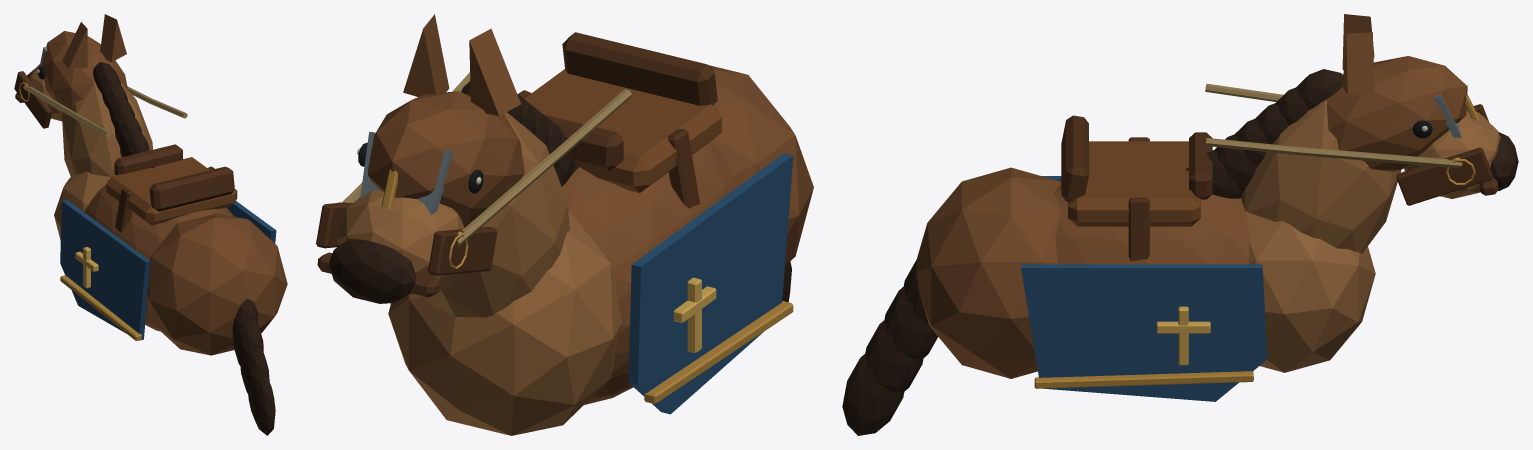
Rendered from Body.glb.
The picture shows the model from 3 angles, left to right: view 1: azimuth 30°, elevation 25°; view 2: azimuth 150°, elevation 25°; view 3: azimuth 270°, elevation 25°; orthographic projection. The views are drawn at different scales.
Visible parts, largest first — view 1: Sculpture; view 2: Sculpture; view 3: Sculpture.
Part boxes in pixels (box(x1,y1,x2,y2)): Sculpture: box(14, 14, 287, 435); Sculpture: box(316, 14, 813, 435); Sculpture: box(842, 14, 1518, 435).
Bounding box in the file's own units: 0.955 × 1.86 × 2.75.
